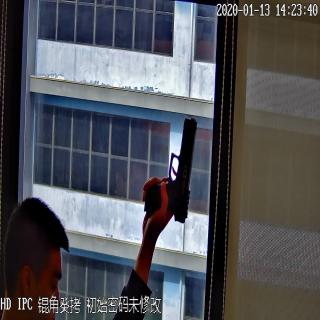gun: (140, 115, 198, 224)
